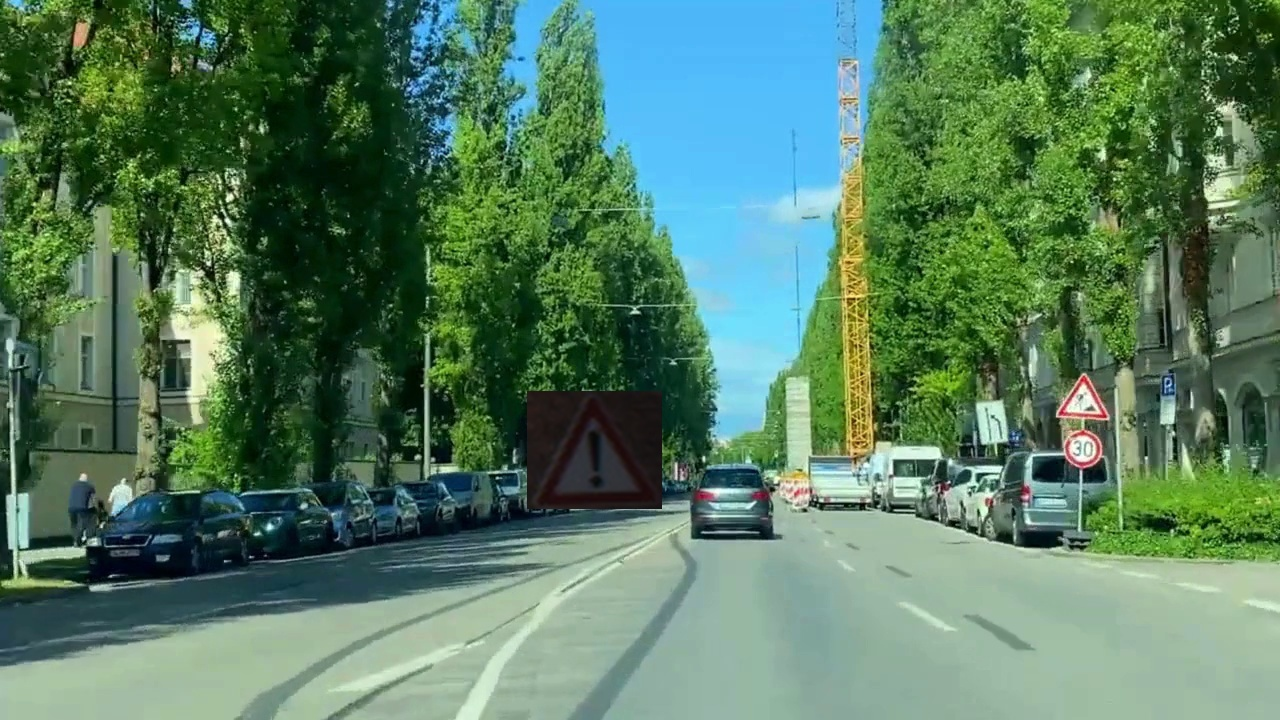Caution: (527, 391, 662, 509)
